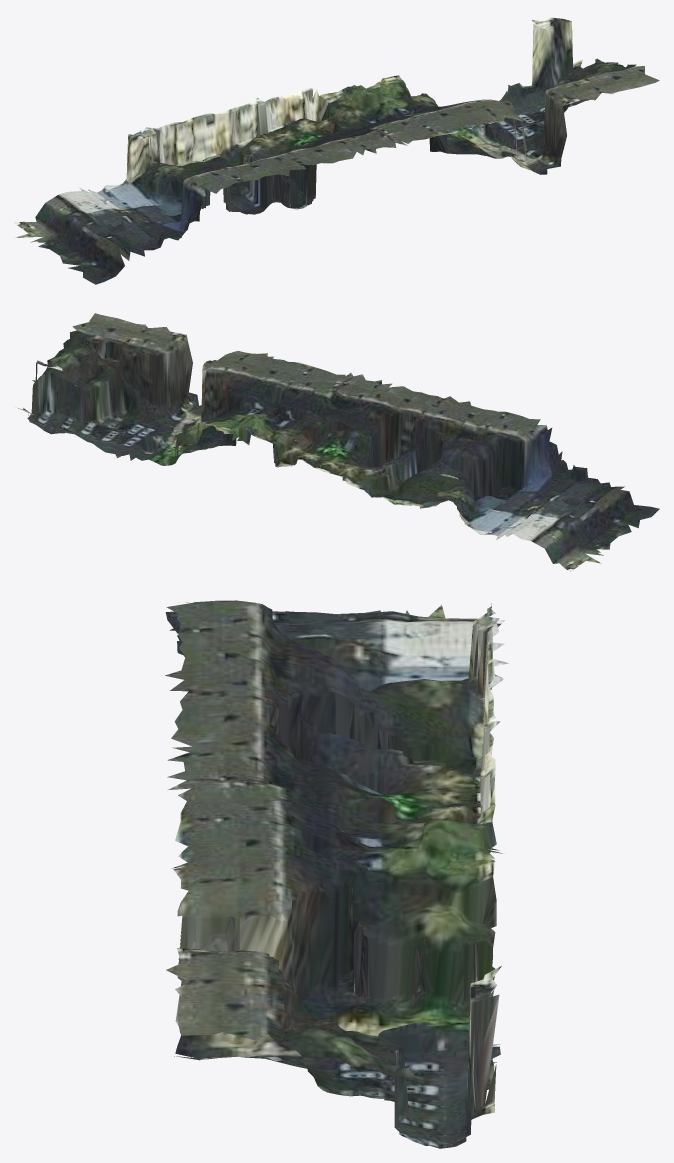
Rendered from Tile_004_003_L14_32.glb.
3 renders of one model, top to bottom at view 1: azimuth 30°, elevation 25°; view 2: azimuth 150°, elevation 25°; view 3: azimuth 270°, elevation 25°, orthographic. The views are drawn at different scales.
Visible parts, largest first — view 1: rtc; view 2: rtc; view 3: rtc.
Part boxes in pixels (x1=…): rtc: x1=14, y1=17, x2=659, y2=284; rtc: x1=15, y1=313, x2=659, y2=571; rtc: x1=165, y1=600, x2=508, y2=1148.
Bounding box in the file's own units: 139 × 18.2 × 36.15.
Materials: 1 (1 with a texture image).
